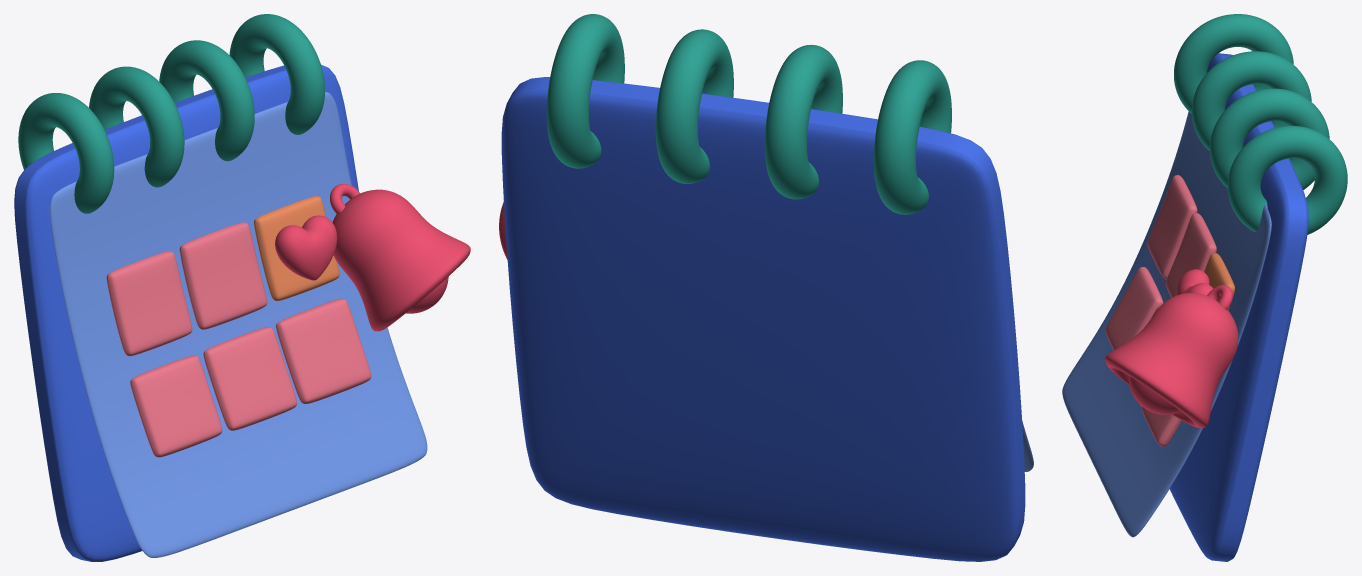
File: schedule-date-3d-animated-icon-514361180942.glb
3 renders of one model, left to right at view 1: azimuth 30°, elevation 25°; view 2: azimuth 150°, elevation 25°; view 3: azimuth 270°, elevation 25°, orthographic. The views are drawn at different scales.
Visible parts, largest first — view 1: paper, cover, ring, alarm, box, box.005, box.004, box.002, box.001, box.003, heart; view 2: cover, ring; view 3: ring, cover, paper, alarm, box.002, box.001, box.005, box, box.003, heart.
Boxes of the visible parts, x1=… form: paper: x1=50, y1=92, x2=427, y2=557; cover: x1=14, y1=64, x2=358, y2=561; ring: x1=18, y1=14, x2=324, y2=213; alarm: x1=330, y1=184, x2=470, y2=331; box: x1=276, y1=298, x2=371, y2=403; box.005: x1=179, y1=222, x2=267, y2=329; box.004: x1=203, y1=327, x2=296, y2=430; box.002: x1=106, y1=251, x2=192, y2=356; box.001: x1=130, y1=355, x2=222, y2=457; box.003: x1=254, y1=196, x2=339, y2=300; heart: x1=275, y1=215, x2=337, y2=280; cover: x1=501, y1=77, x2=1025, y2=561; ring: x1=546, y1=14, x2=951, y2=214; ring: x1=1174, y1=14, x2=1347, y2=234; cover: x1=1169, y1=53, x2=1308, y2=561; paper: x1=1062, y1=111, x2=1271, y2=537; alarm: x1=1105, y1=285, x2=1238, y2=428; box.002: x1=1147, y1=175, x2=1197, y2=279; box.001: x1=1105, y1=267, x2=1163, y2=350; box.005: x1=1165, y1=213, x2=1216, y2=297; box: x1=1142, y1=407, x2=1181, y2=446; box.003: x1=1204, y1=253, x2=1234, y2=310; heart: x1=1176, y1=269, x2=1213, y2=295.
Bounding box in the file's own units: 2.67 × 2.62 × 1.63.
